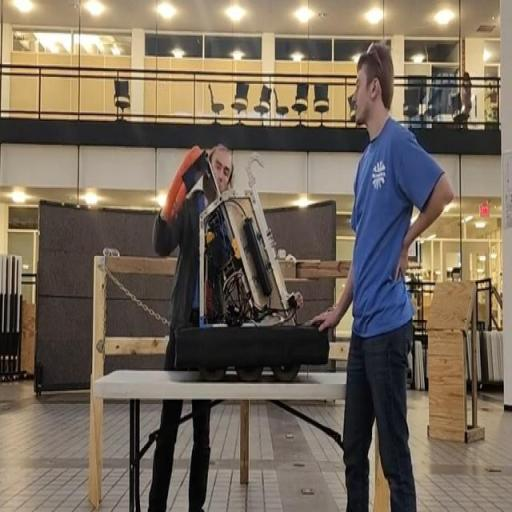robot: (176, 149, 332, 382)
